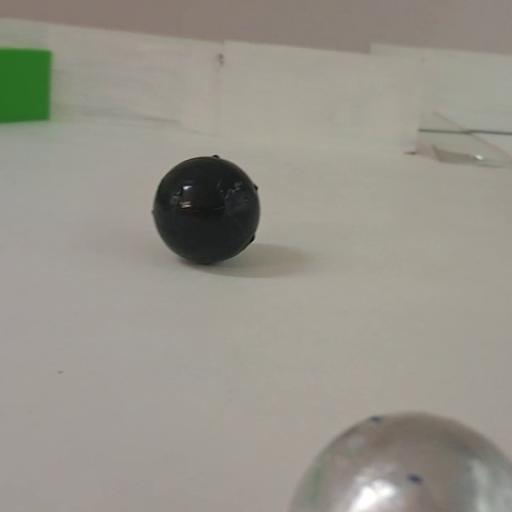alive: (289, 409, 512, 512)
dead: (152, 154, 266, 271)
